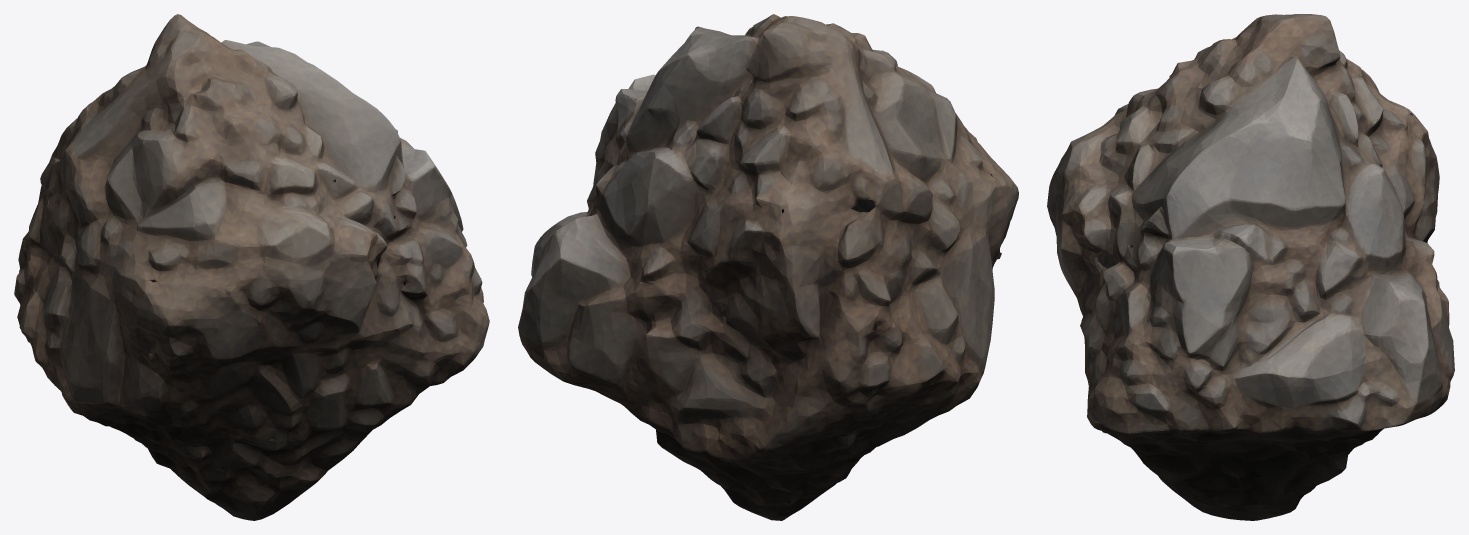
3 views of the same model, side by side, from view 1: azimuth 30°, elevation 25°; view 2: azimuth 150°, elevation 25°; view 3: azimuth 270°, elevation 25° (orthographic). The views are drawn at different scales.
Visible parts, largest first — view 1: world; view 2: world; view 3: world.
Boxes of the visible parts, left/top/right/bottom form: world: left=14, top=14, right=489, bottom=520; world: left=518, top=14, right=1018, bottom=520; world: left=1047, top=14, right=1454, bottom=520.
Bounding box in the file's own units: 3.04 × 3.68 × 2.75.
Materials: 1 (1 with a texture image).
